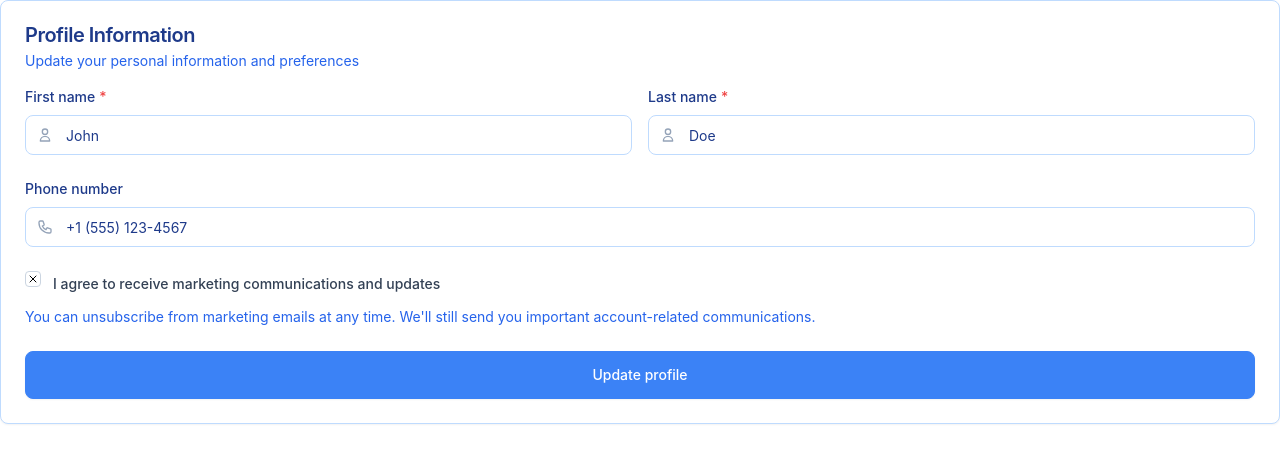
it: ProfileForm › Form Validation › should show error for empty first name
Clear the field labelled "First name*" at (328, 135), box [25,115,632,155]
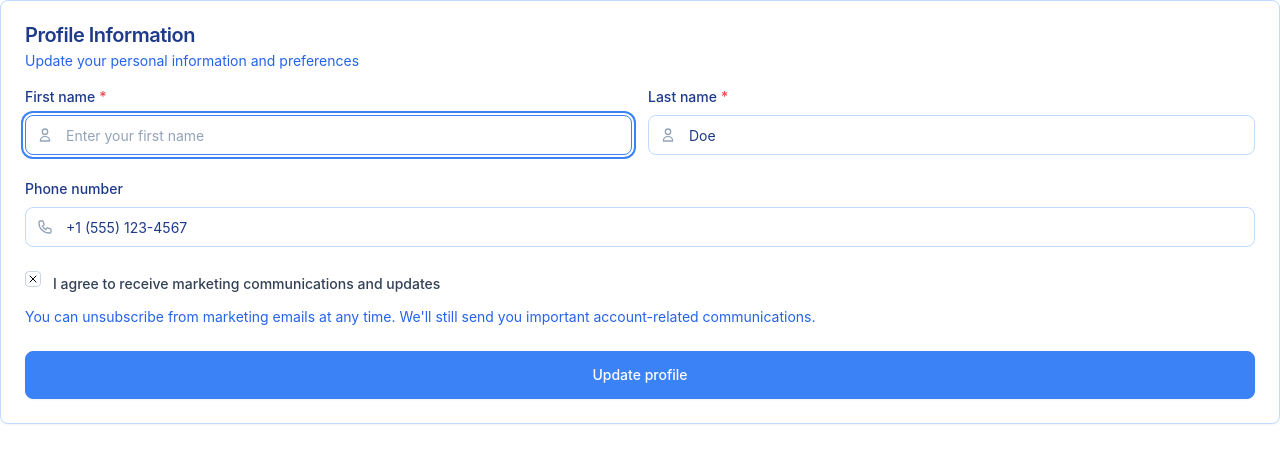
Submit the form
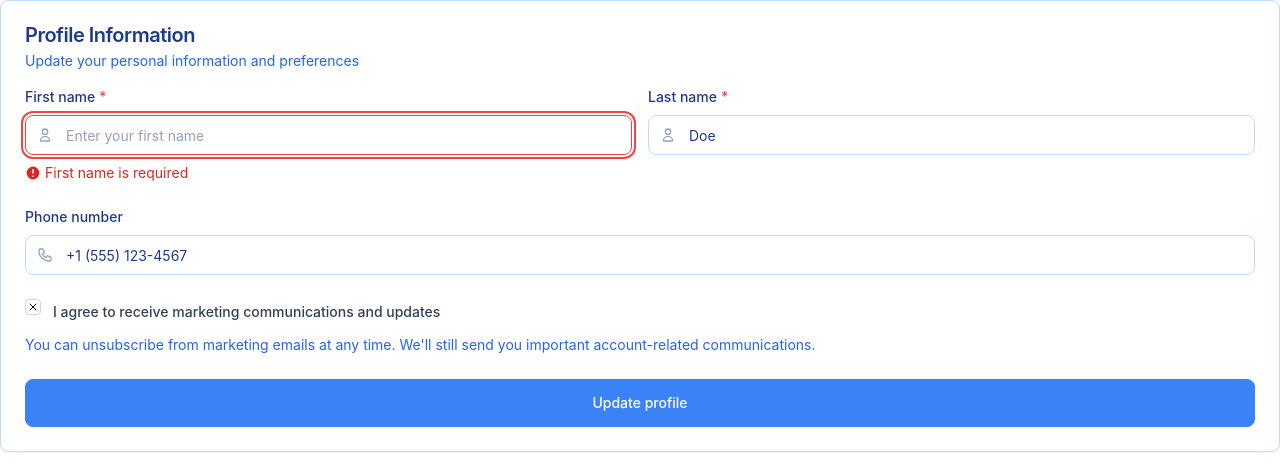
Now the text "First name is required" is shown, box [45,163,188,183]
